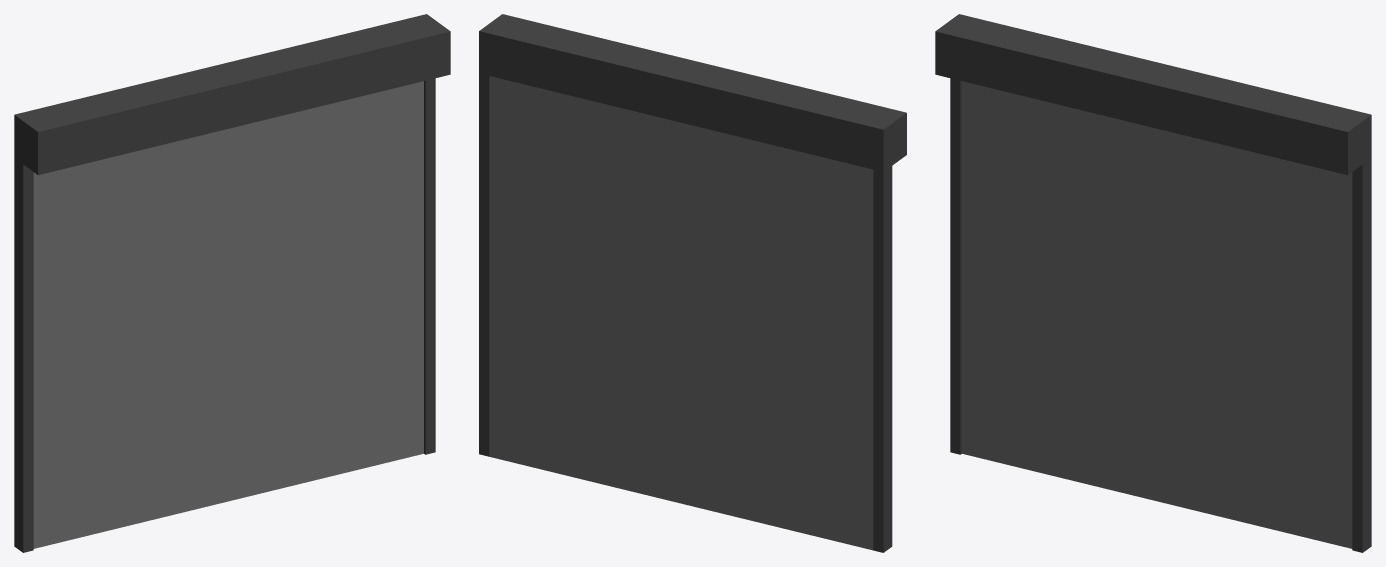
File: GarageDoor.fbx
The picture shows the model from 3 angles, left to right: view 1: azimuth 30°, elevation 25°; view 2: azimuth 150°, elevation 25°; view 3: azimuth 330°, elevation 25°; orthographic projection. The views are drawn at different scales.
Parts seen in each view (by area): view 1: Door, Container, RightSlider, LeftSlider; view 2: Door, Container, RightSlider, LeftSlider; view 3: Door, Container, LeftSlider, RightSlider.
Part boxes in pixels (x1=…): Door: x1=33, y1=81, x2=423, y2=548; Container: x1=14, y1=14, x2=450, y2=175; RightSlider: x1=14, y1=158, x2=33, y2=552; LeftSlider: x1=424, y1=78, x2=435, y2=454; Door: x1=489, y1=76, x2=873, y2=550; Container: x1=479, y1=14, x2=906, y2=171; RightSlider: x1=873, y1=166, x2=892, y2=552; LeftSlider: x1=479, y1=73, x2=489, y2=456; Door: x1=962, y1=81, x2=1352, y2=548; Container: x1=935, y1=14, x2=1371, y2=175; LeftSlider: x1=1352, y1=158, x2=1371, y2=552; RightSlider: x1=950, y1=78, x2=961, y2=454.
Size of the model in its own units: 400 by 400 by 40.
